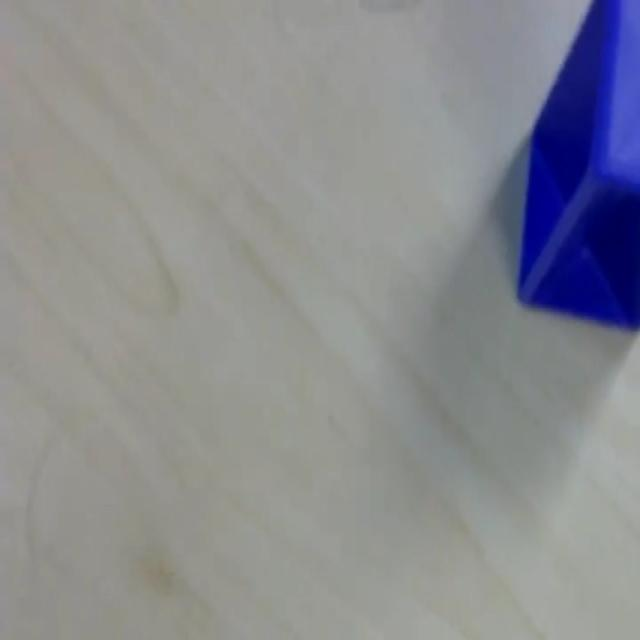blue_block: (515, 0, 638, 329)
